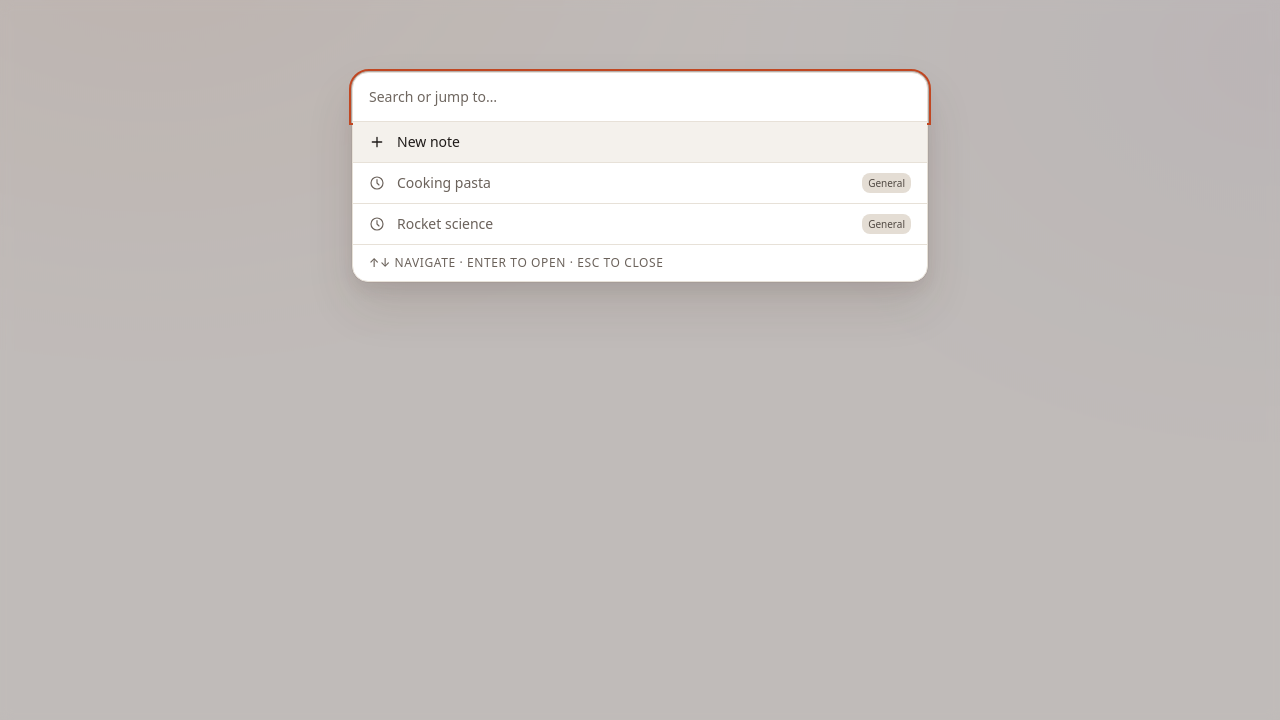
Test: CommandPalette › dedupes multiple hits from the same note
Type "pasta" into the dropdown named "Search notes".
click(640, 97); type("pasta")  # box [353,73,927,121]
Wait 200 ms
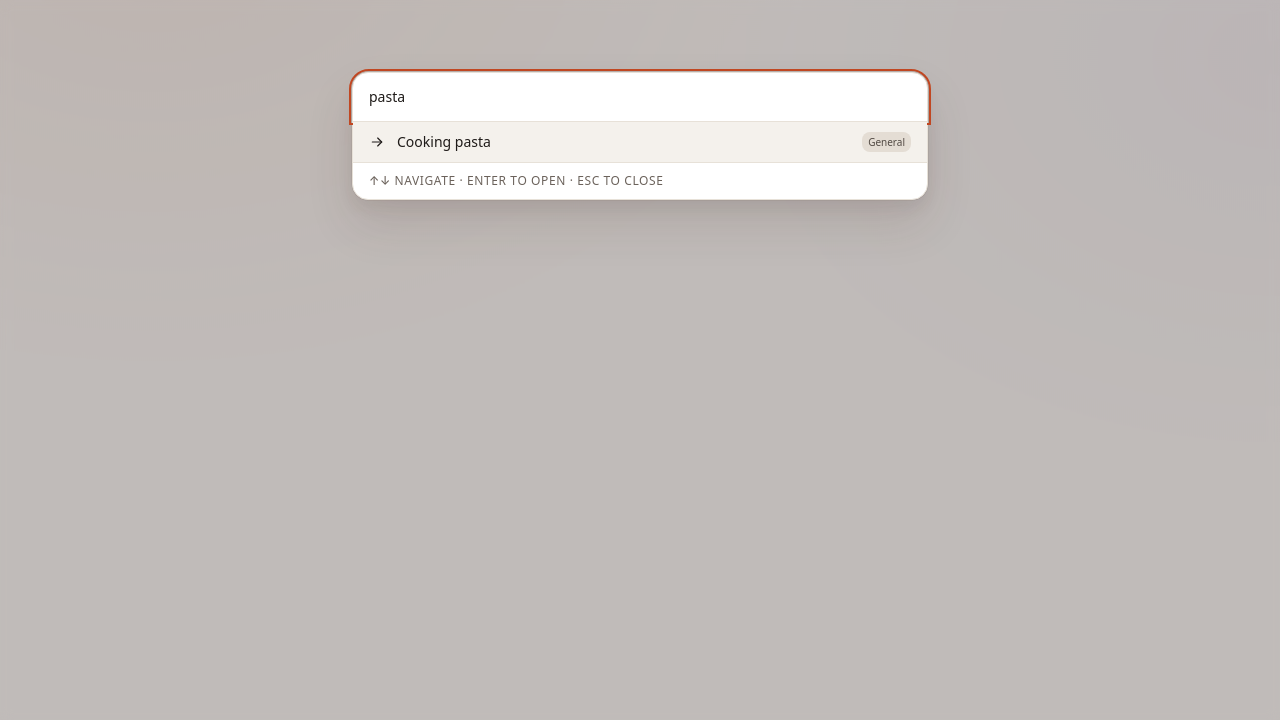
Expected: the text "Cooking pasta" is shown once, [397,132,491,151]
